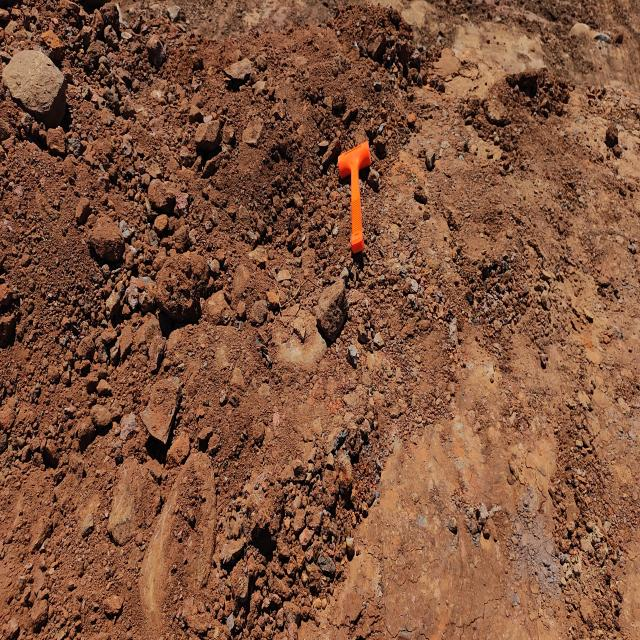Orange_hammer: (337, 139, 371, 255)
